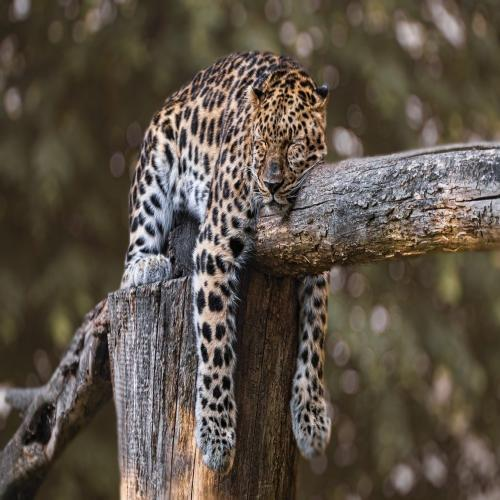jaguar_not-endangered: (128, 55, 325, 460)
